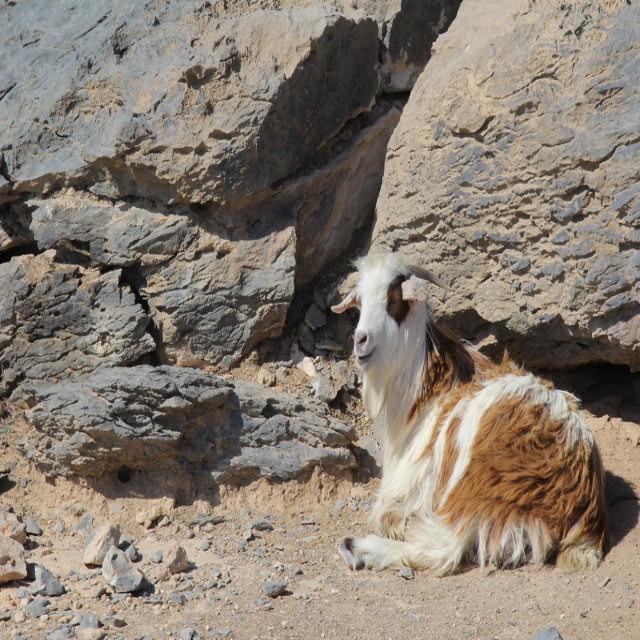Goat: (337, 231, 608, 608)
